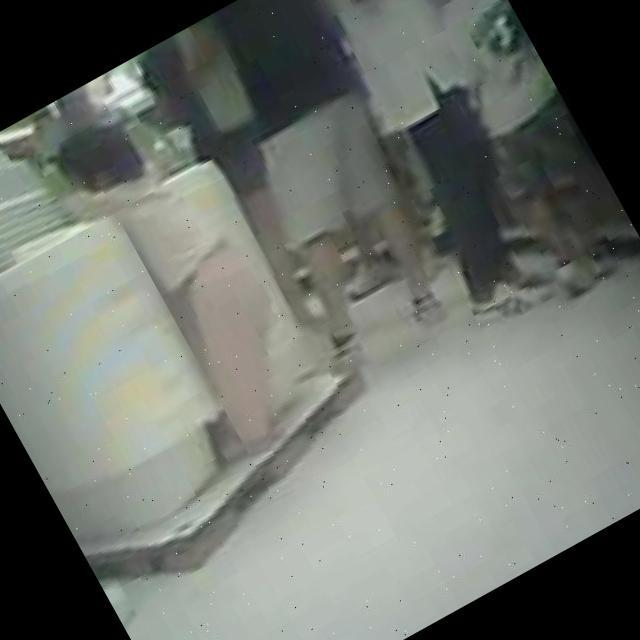person: (31, 86, 339, 480), (282, 0, 613, 346), (164, 0, 474, 355), (384, 0, 640, 297), (125, 24, 352, 350)
